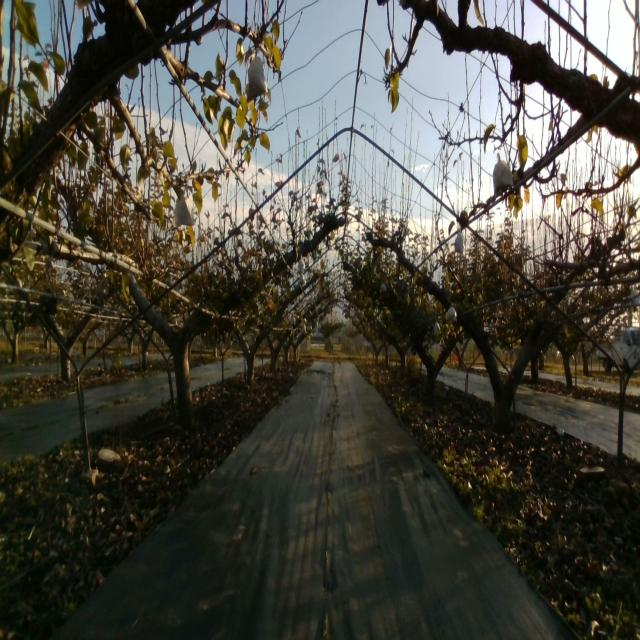pearbags: (246, 55, 268, 103), (492, 151, 514, 195), (172, 194, 195, 228), (454, 229, 464, 254), (446, 302, 458, 321)
